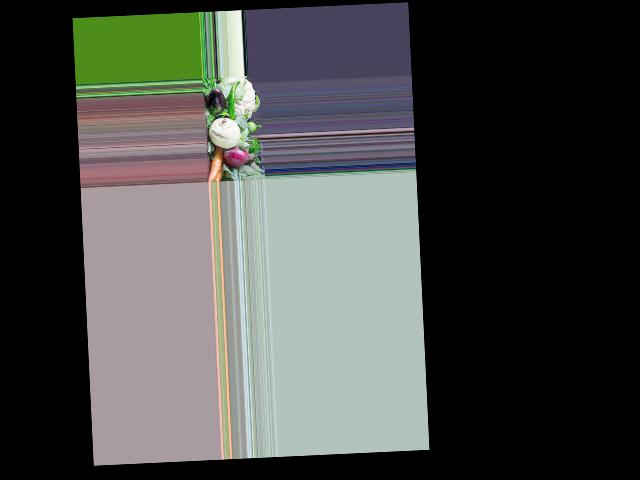carrot: (205, 153, 226, 182)
